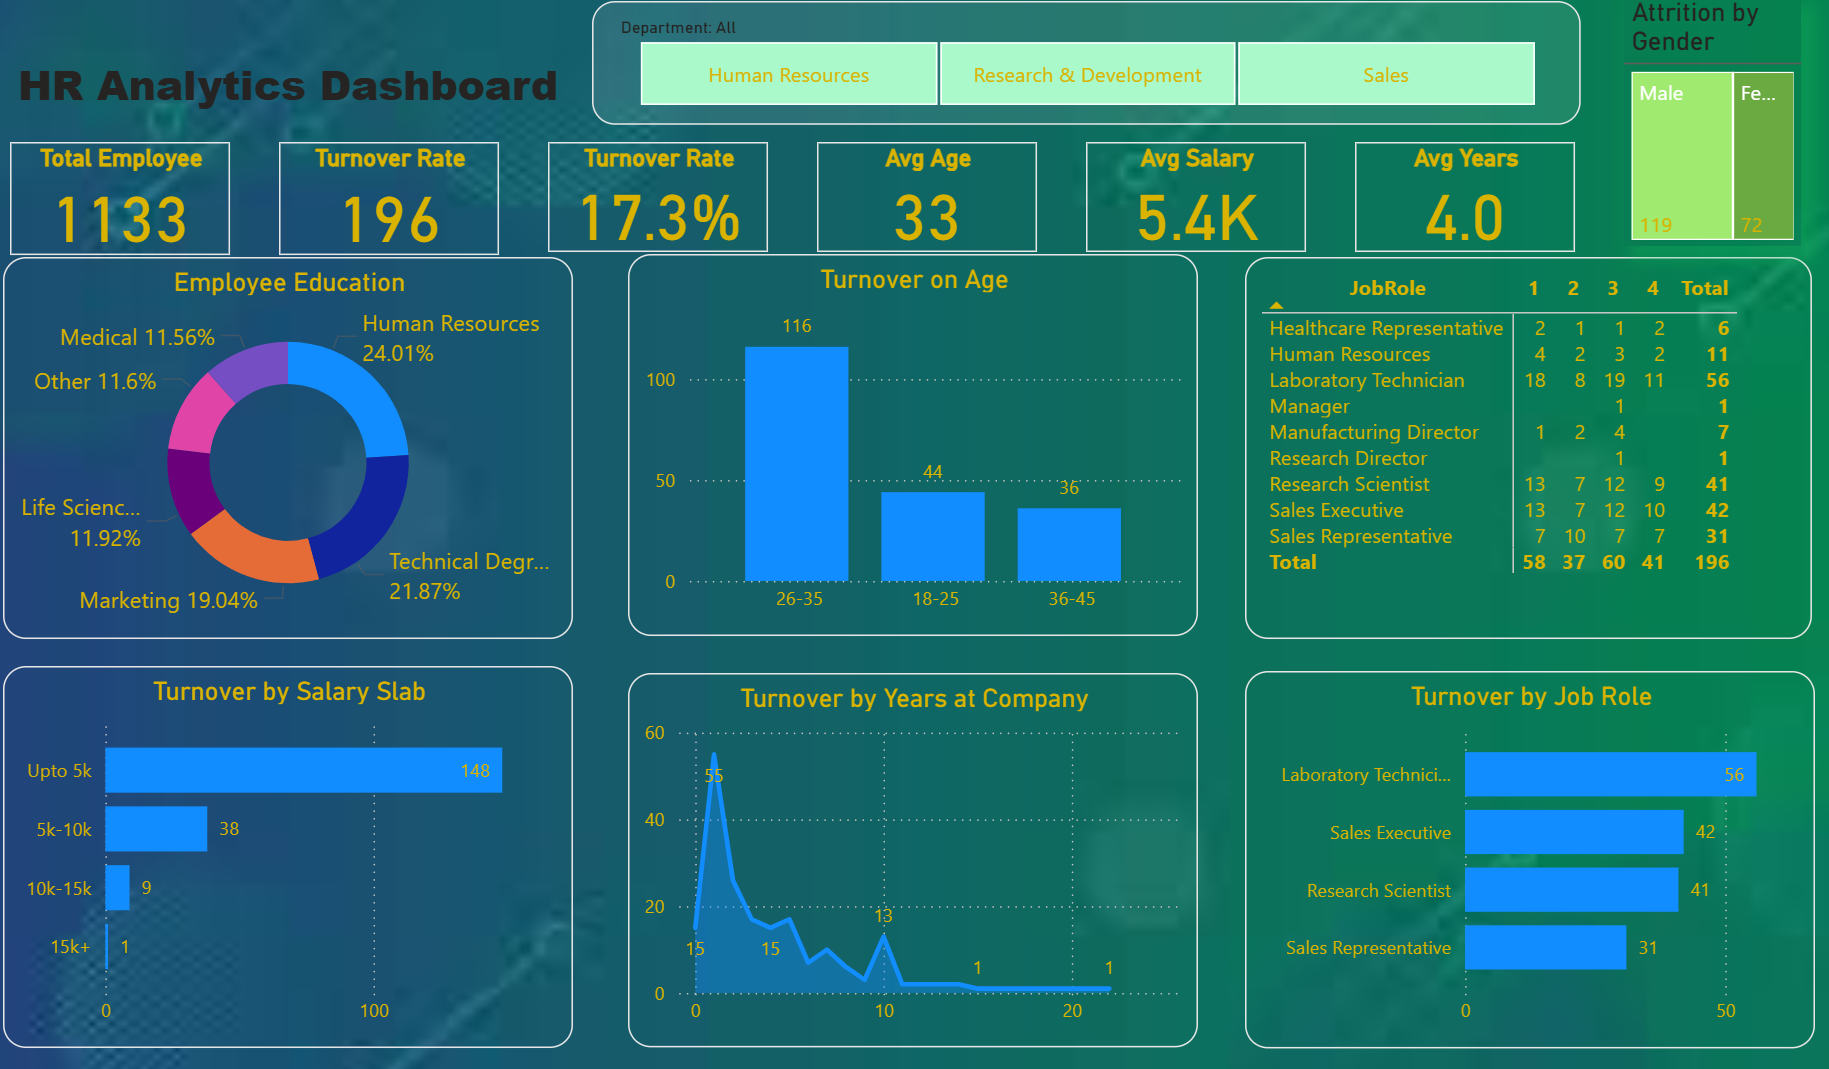

This screenshot's page, from the dashboard's own definition file:
{"tool":"powerbi","page":{"name":"Page 1","canvas":[1280,720],"ordinal":0},"visuals":[{"type":"card","title":"Total Employee","fields":{"Values":["CountNonNull(HR_Analytics.EmpID)"]},"box":[16.4,94.9,148.5,73.9],"z":0},{"type":"card","title":"Turnover Rate","fields":{"Values":["Sum(HR_Analytics.AttritionCount)"]},"box":[197,94.9,144,73.9],"z":1000},{"type":"card","title":"Avg Salary","fields":{"Values":["Avg(HR_Analytics.MonthlyIncome)"]},"box":[725.2,94.7,143.9,72],"z":2000},{"type":"card","title":"Avg Age","fields":{"Values":["Avg(HR_Analytics.Age)"]},"box":[549.1,94.7,143.9,72],"z":3000},{"type":"card","title":"Turnover Rate","fields":{"Values":["HR_Analytics.AttritionRate"]},"box":[373,94.7,143.9,72],"z":4000},{"type":"card","title":"Avg Years","fields":{"Values":["Avg(HR_Analytics.YearsInCurrentRole)"]},"box":[901.3,94.7,143.9,72],"z":5000},{"type":"donutChart","title":"Employee Education","fields":{"Category":["HR_Analytics.EducationField"],"Y":["HR_Analytics.AttritionRate"]},"box":[16.4,170.1,373,250],"z":6000},{"type":"columnChart","title":"Turnover on Age","fields":{"Category":["HR_Analytics.AgeGroup"],"Y":["Sum(HR_Analytics.AttritionCount)"]},"box":[425.4,168.2,373,250],"z":7000},{"type":"pivotTable","fields":{"Rows":["HR_Analytics.JobRole"],"Columns":["HR_Analytics.JobSatisfaction"],"Values":["Sum(HR_Analytics.AttritionCount)"]},"box":[829.1,170.1,371,250],"z":8000},{"type":"barChart","title":"Turnover by Salary Slab","fields":{"Category":["HR_Analytics.SalarySlab"],"Y":["Sum(HR_Analytics.AttritionCount)"]},"box":[16.4,437.8,373,250],"z":9000},{"type":"barChart","title":"Turnover  by Job Role","fields":{"Category":["HR_Analytics.JobRole"],"Y":["Sum(HR_Analytics.AttritionCount)"]},"box":[829.1,441.1,373,246.7],"z":10000},{"type":"areaChart","title":"Turnover  by Years at Company","fields":{"Category":["HR_Analytics.YearsAtCompany"],"Y":["Sum(HR_Analytics.AttritionCount)"]},"box":[425.4,442.4,373,245.4],"z":11000},{"type":"treemap","title":"Attrition by Gender","fields":{"Group":["HR_Analytics.Gender"],"Values":["Sum(HR_Analytics.AttritionCount)"]},"box":[1077.1,0,125,162.9],"z":12000},{"type":"textbox","box":[20.9,33.4,373,50.4],"z":13000},{"type":"slicer","fields":{"Values":["HR_Analytics.Department"]},"box":[401.8,2.6,646.5,81.1],"z":14000}]}

Visuals, with their boxes in screenshot pixels (x1, y1, x2, y2):
"Total Employee" card: bbox=[0, 139, 183, 251]
"Turnover Rate" card: bbox=[232, 139, 450, 251]
"Avg Salary" card: bbox=[1032, 139, 1250, 248]
"Avg Age" card: bbox=[765, 139, 983, 248]
"Turnover Rate" card: bbox=[498, 139, 716, 248]
"Avg Years" card: bbox=[1298, 139, 1516, 248]
"Employee Education" donutChart: bbox=[0, 253, 523, 632]
"Turnover on Age" columnChart: bbox=[578, 250, 1143, 629]
pivotTable - HR_Analytics.JobRole x HR_Analytics.JobSatisfaction: bbox=[1189, 253, 1751, 632]
"Turnover by Salary Slab" barChart: bbox=[0, 658, 523, 1037]
"Turnover  by Job Role" barChart: bbox=[1189, 663, 1754, 1037]
"Turnover  by Years at Company" areaChart: bbox=[578, 665, 1143, 1037]
"Attrition by Gender" treemap: bbox=[1565, 0, 1754, 242]
textbox: bbox=[0, 46, 530, 122]
slicer - HR_Analytics.Department: bbox=[542, 0, 1521, 122]
